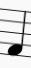F: (7, 7, 27, 59)
